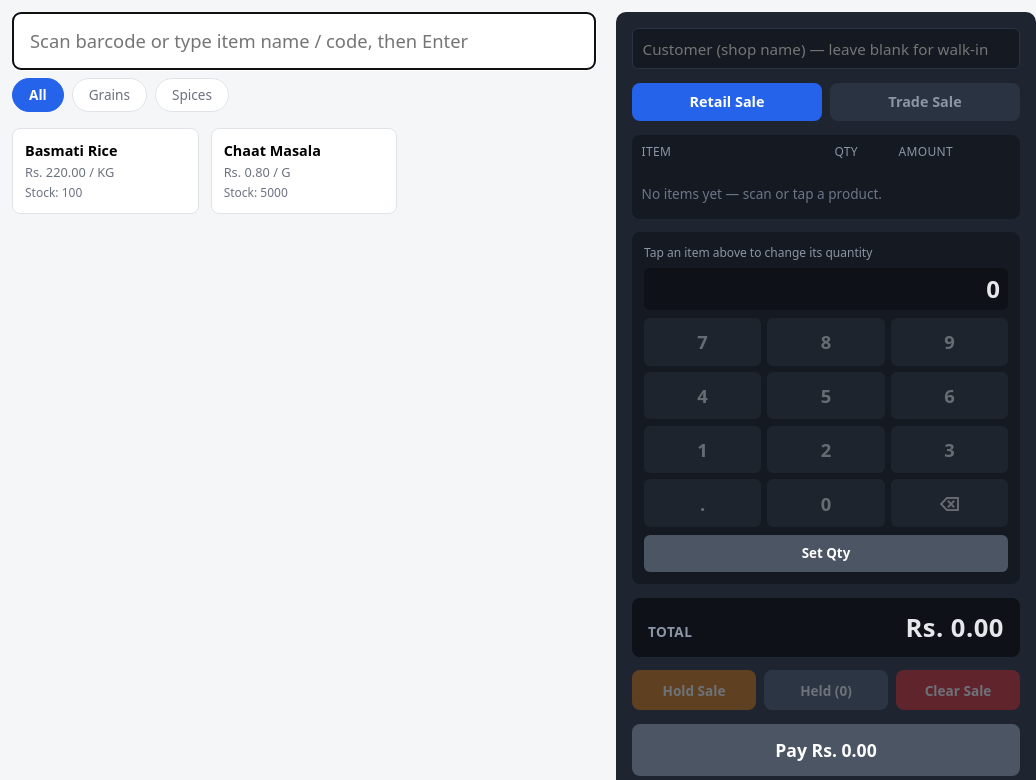
Test case: POS — product grid and cart › setting quantity to 0 removes the line
Click the text "Basmati Rice": point(71, 150) [25,141,118,160]
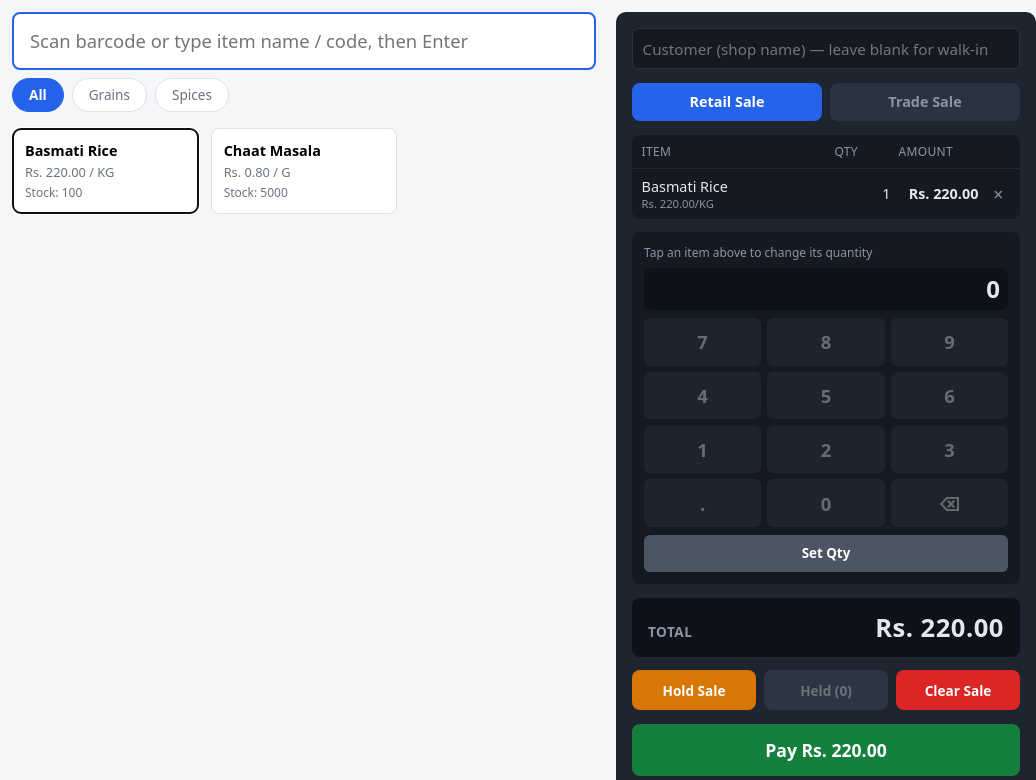
Click the element with class "receipt-row": point(826, 193) [632,168,1020,219]
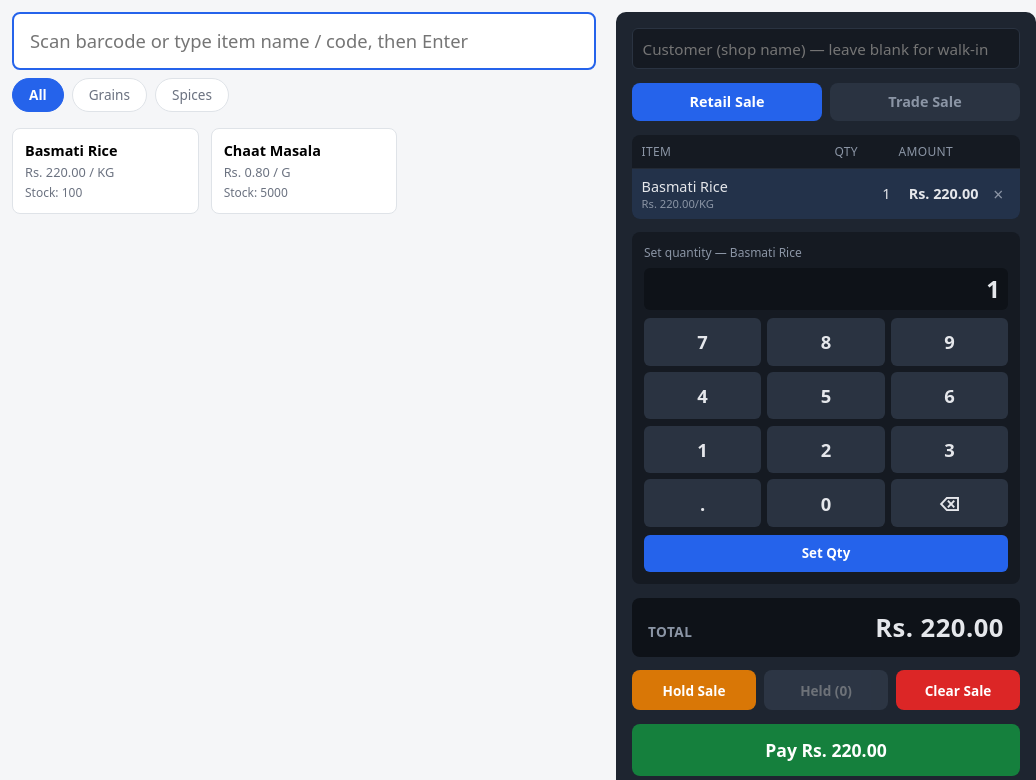
Click the button "⌫": point(949, 503) [891,479,1008,527]
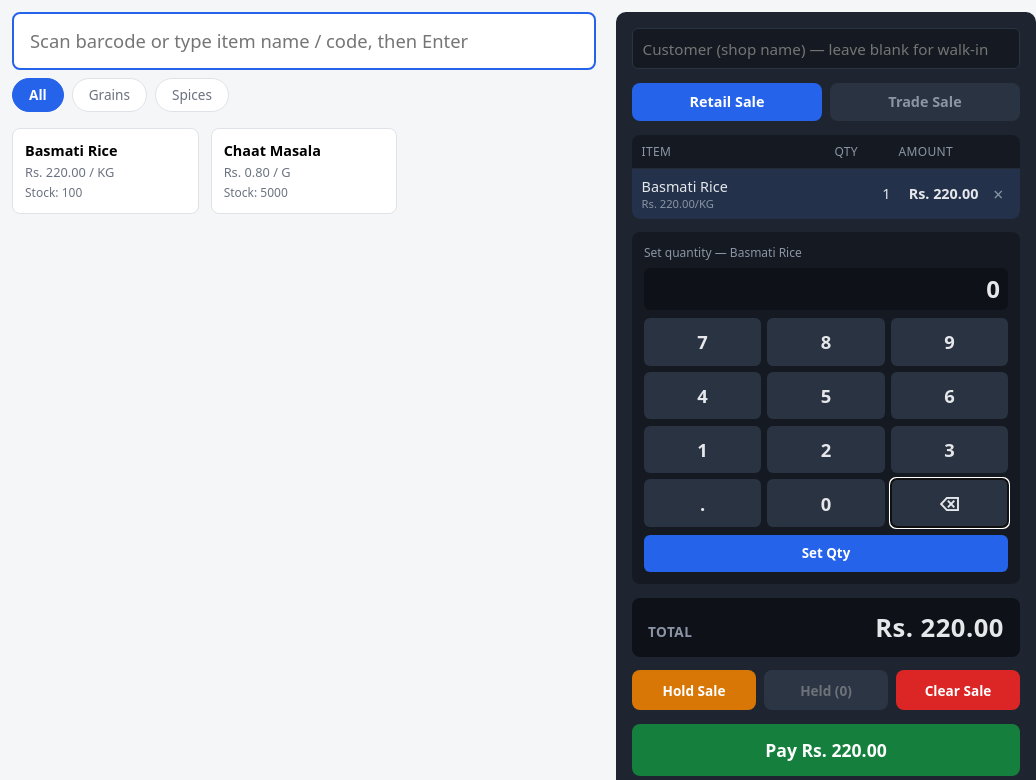
Click the button "Set Qty": point(826, 553) [644,535,1008,572]
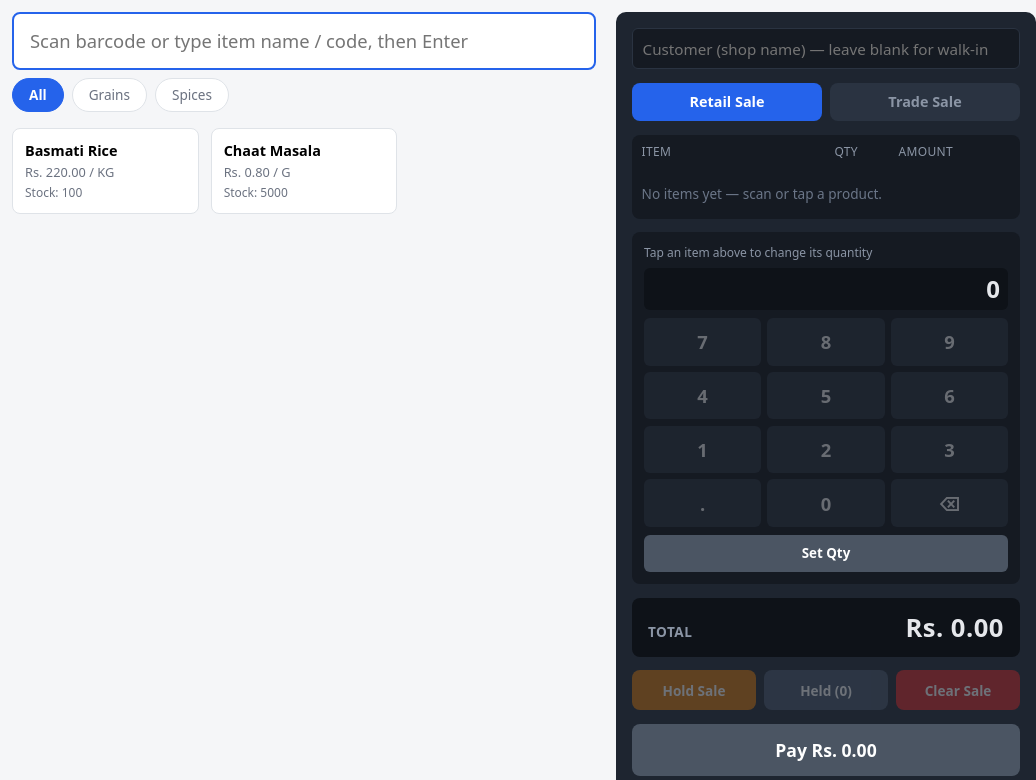
Check: the text "No items yet — scan or tap a product." is shown, box [642,184,882,203]
